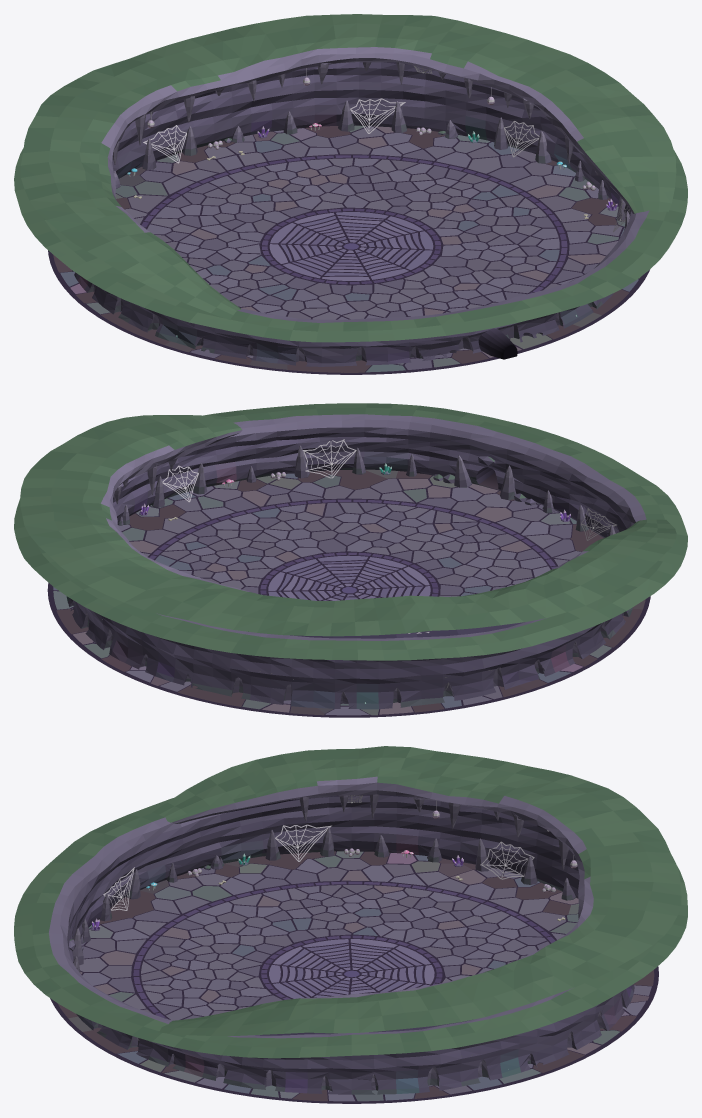
The model's file is Spider_Lair.glb.
3 views of the same model, one above another, from view 1: azimuth 30°, elevation 25°; view 2: azimuth 150°, elevation 25°; view 3: azimuth 270°, elevation 25° (orthographic).
Parts seen in each view (by area): view 1: Floor, Ceiling, Walls, Props; view 2: Walls, Floor, Ceiling, Props; view 3: Walls, Floor, Ceiling, Props.
Boxes of the visible parts, x1,y1,x2,y2 form: Floor: [48, 125, 649, 374]; Ceiling: [21, 14, 676, 319]; Walls: [14, 62, 687, 366]; Props: [127, 66, 629, 354]; Walls: [14, 403, 687, 709]; Floor: [47, 469, 650, 717]; Ceiling: [20, 415, 676, 638]; Props: [102, 439, 616, 703]; Walls: [14, 795, 687, 1094]; Floor: [50, 851, 658, 1103]; Ceiling: [152, 746, 681, 1035]; Props: [90, 795, 583, 1069].
Size of the model in its own units: 140 by 22.96 by 138.
